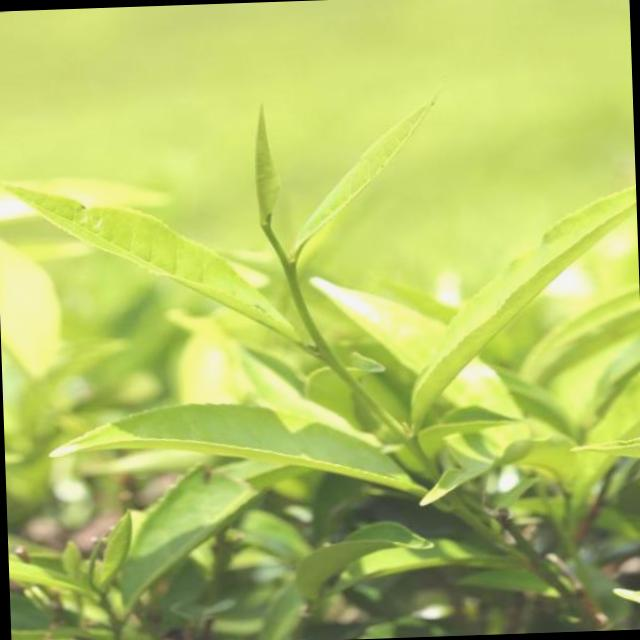Stem: (284, 261, 296, 275)
